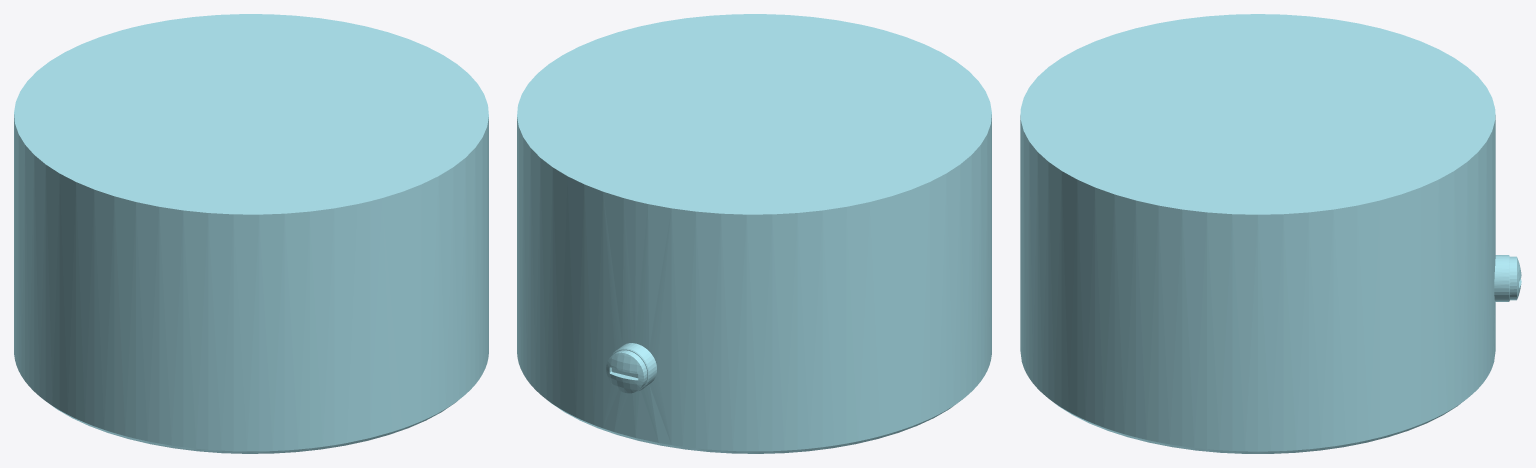
The picture shows the model from 3 angles, left to right: view 1: azimuth 30°, elevation 25°; view 2: azimuth 150°, elevation 25°; view 3: azimuth 270°, elevation 25°; orthographic projection.
Parts seen in each view (by area): view 1: UR30Link6; view 2: UR30Link6; view 3: UR30Link6.
Part boxes in pixels (x1,y1,x2,y2): UR30Link6: (14,14,488,453); UR30Link6: (517,14,991,453); UR30Link6: (1020,14,1521,453).
Size of the model in its own units: 0.1 by 0.1055 by 0.0561.
